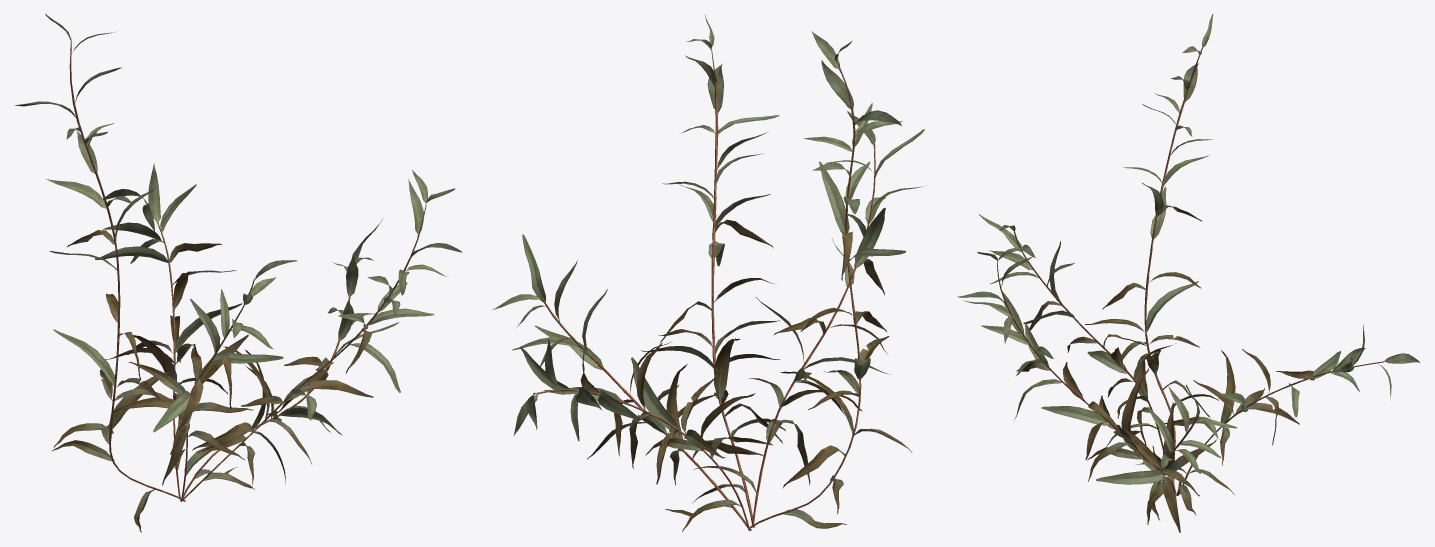
The model's file is shrub-sapling.glb.
The picture shows the model from 3 angles, left to right: view 1: azimuth 30°, elevation 25°; view 2: azimuth 150°, elevation 25°; view 3: azimuth 270°, elevation 25°; orthographic projection. The views are drawn at different scales.
Parts seen in each view (by area): view 1: shrub-sapling_LOD0; view 2: shrub-sapling_LOD0; view 3: shrub-sapling_LOD0.
Part boxes in pixels (bbox=[...]): shrub-sapling_LOD0: bbox=[15, 14, 462, 532]; shrub-sapling_LOD0: bbox=[492, 14, 924, 531]; shrub-sapling_LOD0: bbox=[957, 14, 1419, 532].
Size of what is drawn, in the model's own units: 1.31 by 1.69 by 1.64.
Materials: 1 (1 with a texture image).
